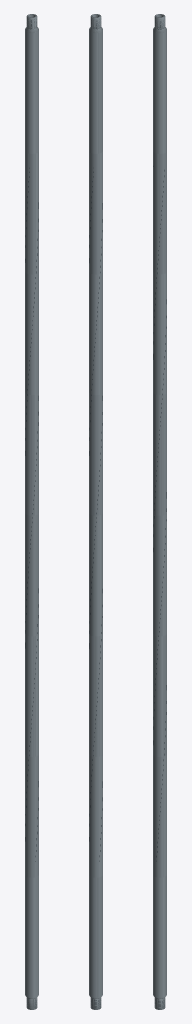
Rendered from spiral-collar.glb.
3 renders of one model, left to right at view 1: azimuth 30°, elevation 25°; view 2: azimuth 150°, elevation 25°; view 3: azimuth 330°, elevation 25°, orthographic.
Visible parts, largest first — view 1: tool-housing (×2), machined-flutes; view 2: tool-housing (×2), machined-flutes; view 3: tool-housing (×2), machined-flutes.
Part boxes in pixels (x1,y1,x2,y2): tool-housing (×2): [25, 14, 38, 1009]; machined-flutes: [25, 172, 38, 861]; tool-housing (×2): [89, 14, 102, 1009]; machined-flutes: [89, 172, 102, 861]; tool-housing (×2): [153, 14, 166, 1009]; machined-flutes: [153, 170, 166, 861].
Size of the model in its own units: 0.1174 by 9.1 by 0.1174.
2 materials, 2 textured.
